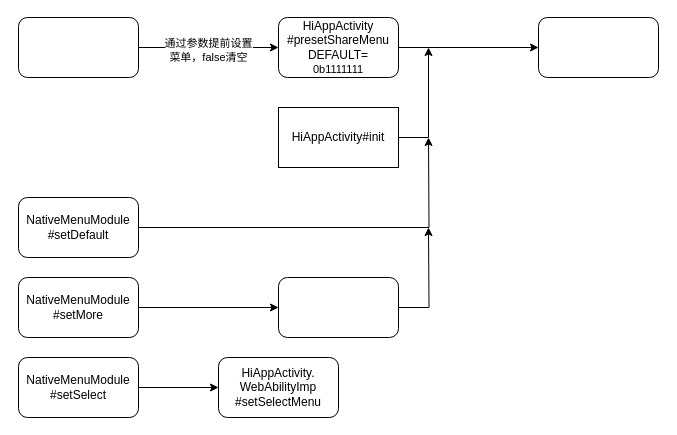
Image size: 677x435. Some labels were removed from this diagram. The shapes that lost their labels are listed below. From the top down, each one's centre as x and y in pixels, then its label:
At [78,47]: "HiAppActivity#parseUrl （hi_navi_share ）".
At [598,47]: "HiAppActivity #showDefaultMenu(int)".
At [338,307]: "WebAbilityImp #setMoreMenu".
